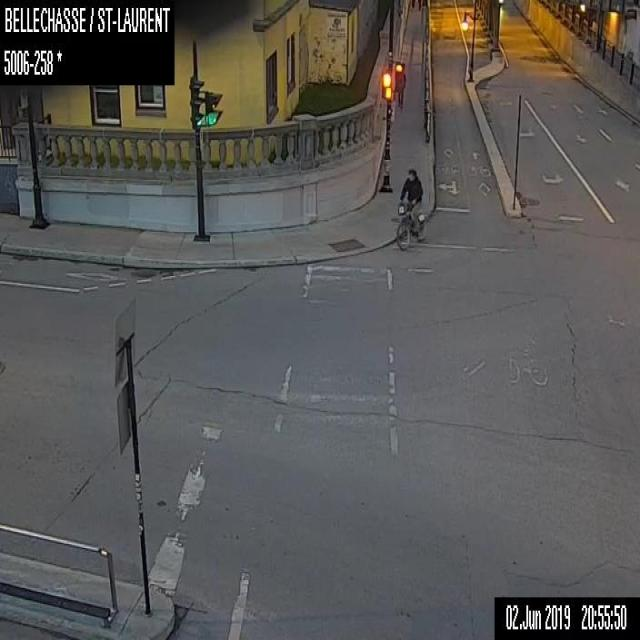cyclist: (396, 168, 427, 248)
pedestrian: (397, 61, 405, 110), (411, 0, 421, 9)
